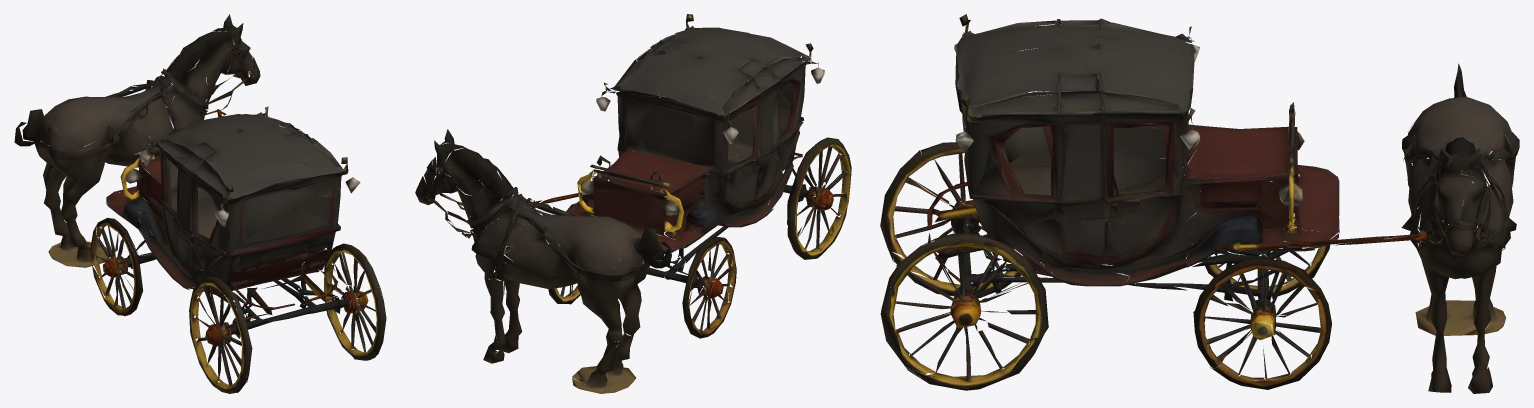
File: cp_carriage.glb
3 views of the same model, side by side, from view 1: azimuth 30°, elevation 25°; view 2: azimuth 150°, elevation 25°; view 3: azimuth 270°, elevation 25° (orthographic). The views are drawn at different scales.
Visible parts, largest first — view 1: tripo_node_b8dbcd72-80a2-4d53-ba87-a6b455dbacda; view 2: tripo_node_b8dbcd72-80a2-4d53-ba87-a6b455dbacda; view 3: tripo_node_b8dbcd72-80a2-4d53-ba87-a6b455dbacda.
Boxes of the visible parts, left/top/right/bottom form: tripo_node_b8dbcd72-80a2-4d53-ba87-a6b455dbacda: left=14, top=14, right=386, bottom=393; tripo_node_b8dbcd72-80a2-4d53-ba87-a6b455dbacda: left=415, top=14, right=851, bottom=393; tripo_node_b8dbcd72-80a2-4d53-ba87-a6b455dbacda: left=880, top=14, right=1519, bottom=393.
Bounding box in the file's own units: 0.6315 × 0.5211 × 1.
1 material, 1 textured.
